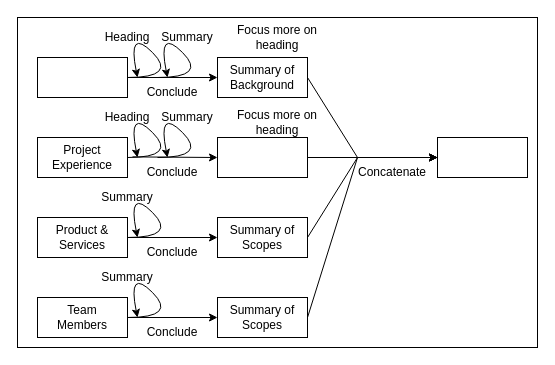
The diagram is 555 pixels wide and 365 high, and some of its shapes have lost their labels. The shapes that lost their labels are listed below. From the top down, each one's centre as x and y in pixels, then its label:
At (x=82, y=77): "Background".
At (x=262, y=157): "Summary of Purposes".
At (x=482, y=157): "RFP Summary".
